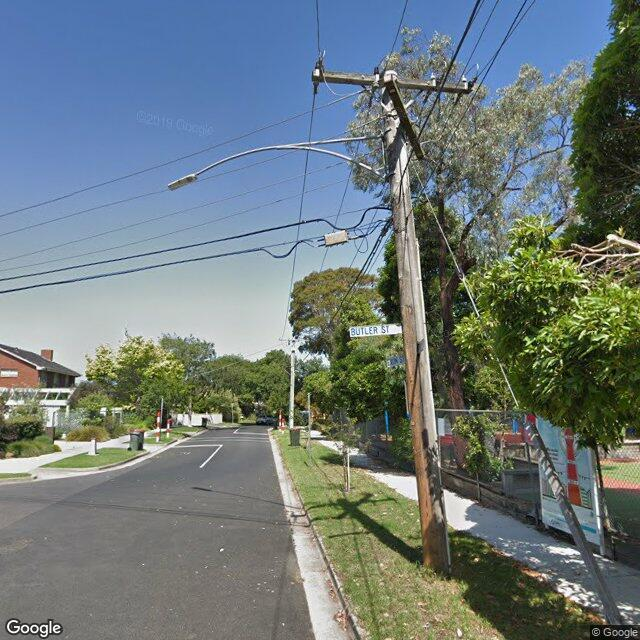crossarm: (311, 70, 470, 94), (384, 74, 424, 160), (279, 339, 305, 341)
streetlight: (167, 134, 389, 192)
timber-pole: (384, 70, 449, 571), (289, 339, 295, 429)
